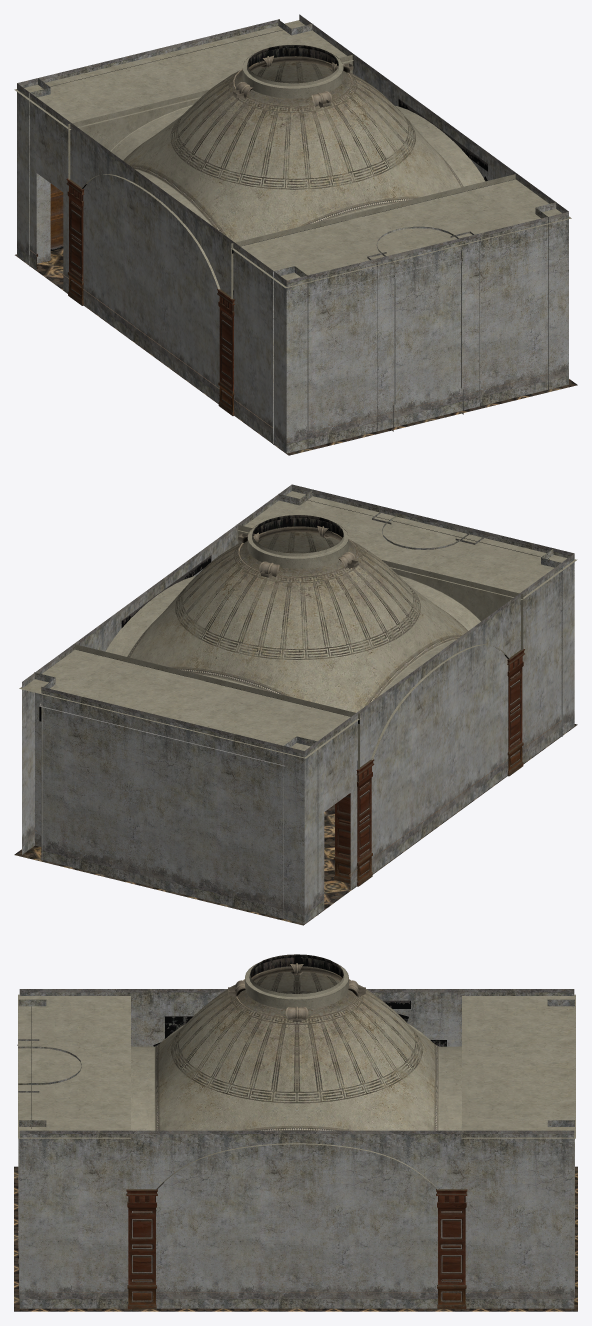
The picture shows the model from 3 angles, top to bottom: view 1: azimuth 30°, elevation 25°; view 2: azimuth 150°, elevation 25°; view 3: azimuth 270°, elevation 25°; orthographic projection. The views are drawn at different scales.
Visible parts, largest first — view 1: LOD_1_Group_0_Sub_2__st2_police2fRightWall03, LOD_1_Group_0_Sub_6__st2_police2fRightCeiling07, LOD_1_Group_0_Sub_5__st2_police2fRightCeiling06, LOD_1_Group_0_Sub_8__st2_police2fRightPillar01, LOD_1_Group_0_Sub_1__st2_police2fRightFloor02, LOD_1_Group_0_Sub_10__st2_police1fLeftDirt02, LOD_1_Group_0_Sub_7__st2_police2fRightFrame04, LOD_1_Group_0_Sub_4__st2_police2fRightWall05; view 2: LOD_1_Group_0_Sub_2__st2_police2fRightWall03, LOD_1_Group_0_Sub_6__st2_police2fRightCeiling07, LOD_1_Group_0_Sub_5__st2_police2fRightCeiling06, LOD_1_Group_0_Sub_8__st2_police2fRightPillar01, LOD_1_Group_0_Sub_1__st2_police2fRightFloor02, LOD_1_Group_0_Sub_10__st2_police1fLeftDirt02, LOD_1_Group_0_Sub_7__st2_police2fRightFrame04; view 3: LOD_1_Group_0_Sub_2__st2_police2fRightWall03, LOD_1_Group_0_Sub_5__st2_police2fRightCeiling06, LOD_1_Group_0_Sub_6__st2_police2fRightCeiling07, LOD_1_Group_0_Sub_8__st2_police2fRightPillar01, LOD_1_Group_0_Sub_1__st2_police2fRightFloor02, LOD_1_Group_0_Sub_10__st2_police1fLeftDirt02, LOD_1_Group_0_Sub_7__st2_police2fRightFrame04.
Boxes of the visible parts, x1,y1,x2,y2 form: LOD_1_Group_0_Sub_2__st2_police2fRightWall03: (17, 14, 568, 453); LOD_1_Group_0_Sub_6__st2_police2fRightCeiling07: (123, 56, 463, 242); LOD_1_Group_0_Sub_5__st2_police2fRightCeiling06: (14, 20, 571, 298); LOD_1_Group_0_Sub_8__st2_police2fRightPillar01: (66, 55, 353, 415); LOD_1_Group_0_Sub_1__st2_police2fRightFloor02: (15, 248, 577, 455); LOD_1_Group_0_Sub_10__st2_police1fLeftDirt02: (50, 45, 515, 298); LOD_1_Group_0_Sub_7__st2_police2fRightFrame04: (30, 29, 551, 433); LOD_1_Group_0_Sub_4__st2_police2fRightWall05: (50, 183, 63, 248); LOD_1_Group_0_Sub_2__st2_police2fRightWall03: (22, 484, 574, 923); LOD_1_Group_0_Sub_6__st2_police2fRightCeiling07: (127, 526, 467, 712); LOD_1_Group_0_Sub_5__st2_police2fRightCeiling06: (19, 491, 577, 769); LOD_1_Group_0_Sub_8__st2_police2fRightPillar01: (237, 526, 524, 886); LOD_1_Group_0_Sub_1__st2_police2fRightFloor02: (14, 724, 577, 925); LOD_1_Group_0_Sub_10__st2_police1fLeftDirt02: (39, 515, 509, 858); LOD_1_Group_0_Sub_7__st2_police2fRightFrame04: (35, 500, 561, 898); LOD_1_Group_0_Sub_2__st2_police2fRightWall03: (18, 989, 574, 1308); LOD_1_Group_0_Sub_5__st2_police2fRightCeiling06: (18, 954, 575, 1189); LOD_1_Group_0_Sub_6__st2_police2fRightCeiling07: (155, 966, 438, 1130); LOD_1_Group_0_Sub_8__st2_police2fRightPillar01: (126, 963, 467, 1309); LOD_1_Group_0_Sub_1__st2_police2fRightFloor02: (14, 1166, 577, 1311); LOD_1_Group_0_Sub_10__st2_police1fLeftDirt02: (17, 954, 446, 1189); LOD_1_Group_0_Sub_7__st2_police2fRightFrame04: (19, 1006, 574, 1292).
Size of the model in its own units: 7.04 by 6.02 by 11.5.
